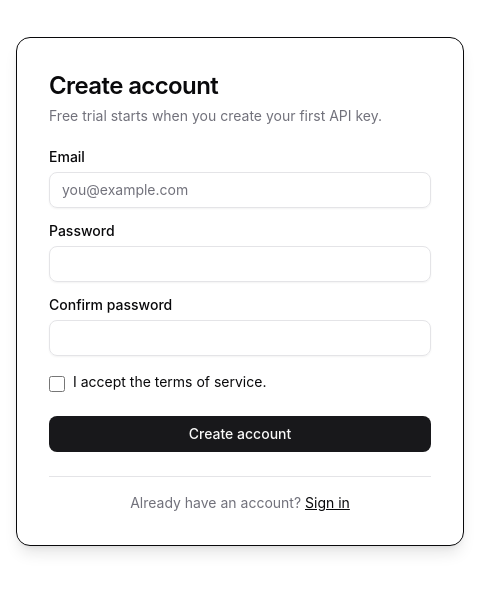
Test: RegisterPage › strength meter appears once password field has value
Step 1. Type "Pass1!" into the password field labelled "Password" → (240, 264), box 49,246 -> 431,282
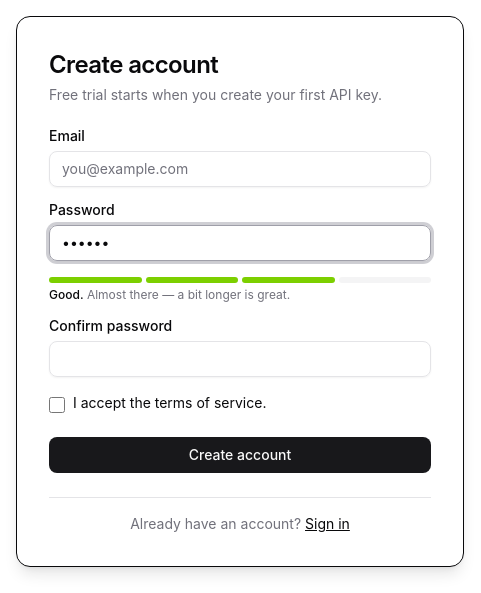
Now the element with test id "password-strength-meter" is shown, box 49,276 -> 431,302
